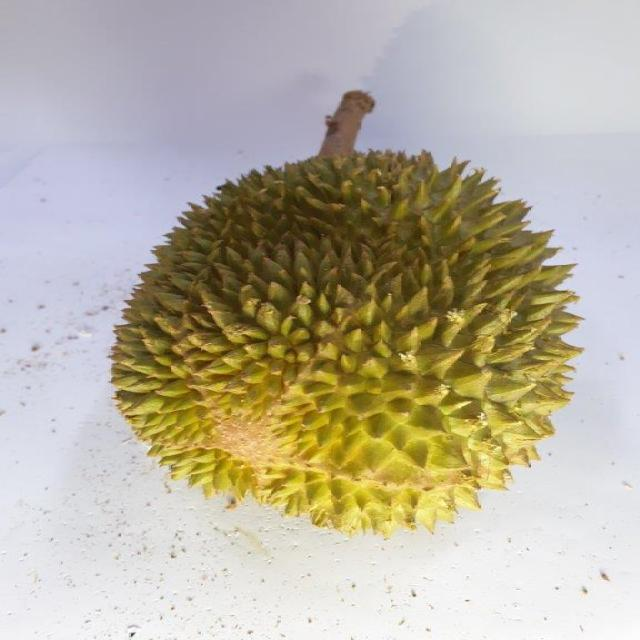immature: (98, 145, 588, 541)
